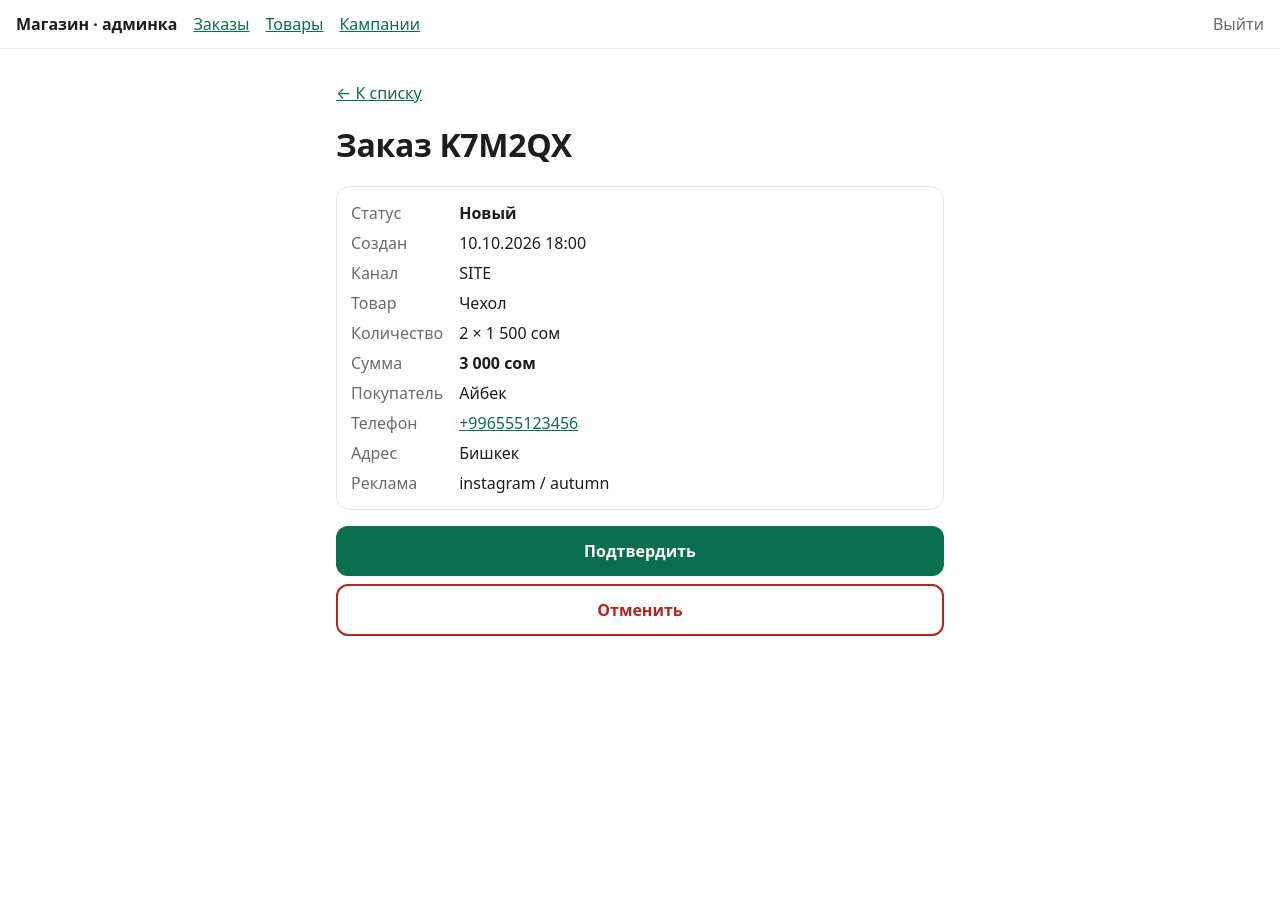
Test: статус уже изменился в другой вкладке — сообщение сервера
Step 1. Click the button "Подтвердить" → [640, 551], box [336,526,944,576]
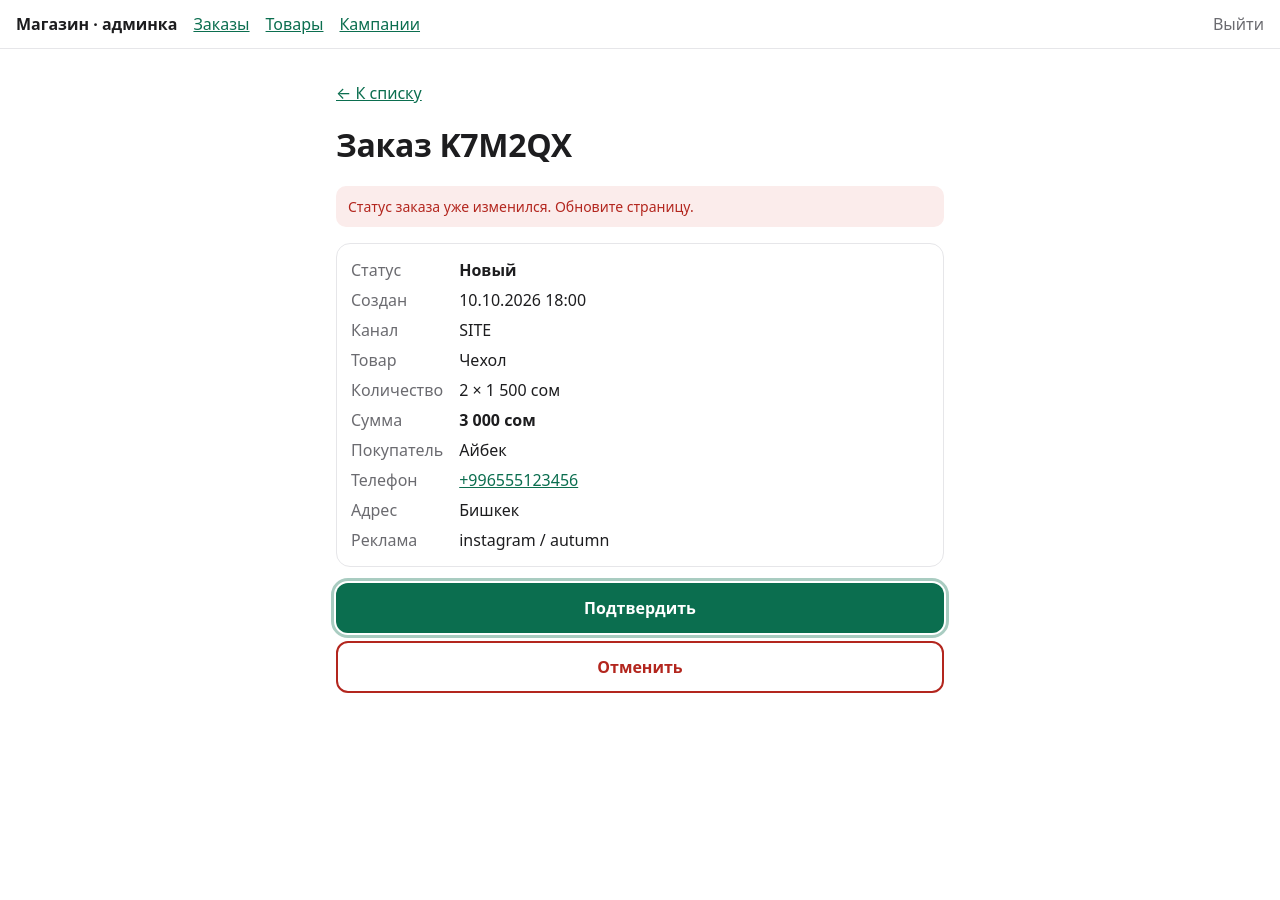
expect the message shows "Статус заказа уже изменился": met, box [348,197,694,216]
